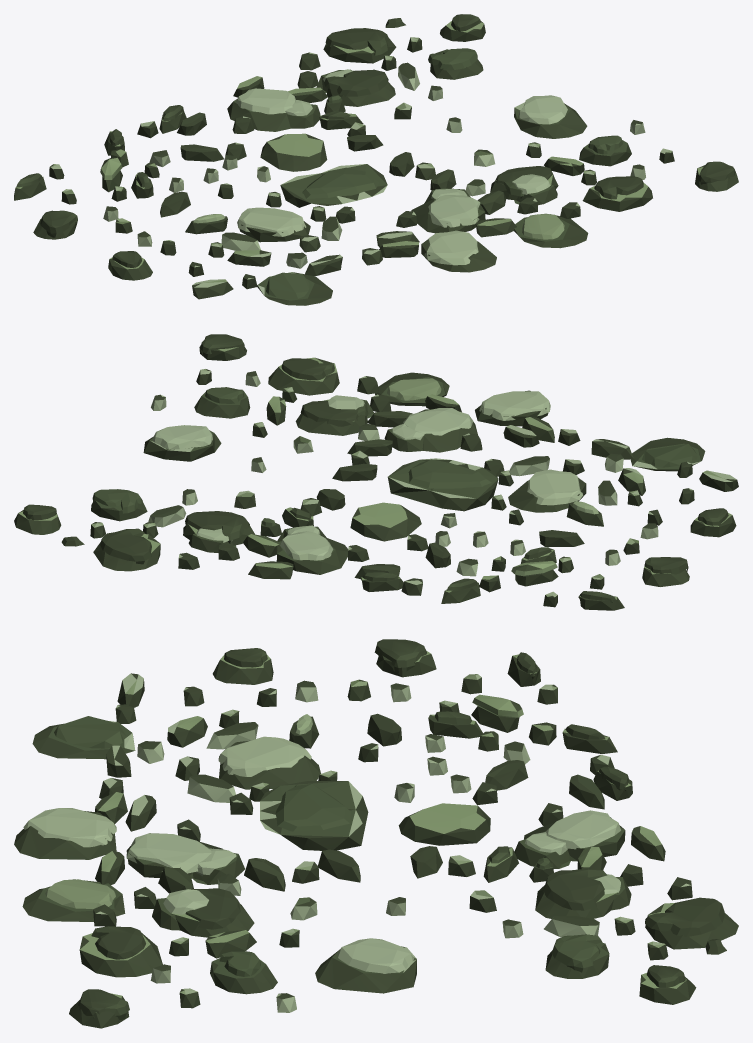
Rendered from EA_Swamp_Stones_Moss_04a.glb.
The picture shows the model from 3 angles, top to bottom: view 1: azimuth 30°, elevation 25°; view 2: azimuth 150°, elevation 25°; view 3: azimuth 270°, elevation 25°; orthographic projection. The views are drawn at different scales.
Parts seen in each view (by area): view 1: EA_Swamp_Stones_Moss_04a; view 2: EA_Swamp_Stones_Moss_04a; view 3: EA_Swamp_Stones_Moss_04a.
Boxes of the visible parts, box(x1,y1,x2,y2) form: EA_Swamp_Stones_Moss_04a: box(14, 14, 738, 305); EA_Swamp_Stones_Moss_04a: box(14, 334, 738, 610); EA_Swamp_Stones_Moss_04a: box(14, 639, 738, 1028).
Bounding box in the file's own units: 9.02 × 0.286 × 7.31.
1 material, 1 textured.
